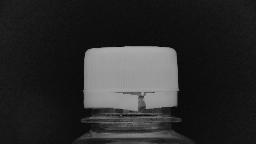Broken Ring: (107, 88, 171, 114)
Loose Cap: (77, 83, 187, 126)
